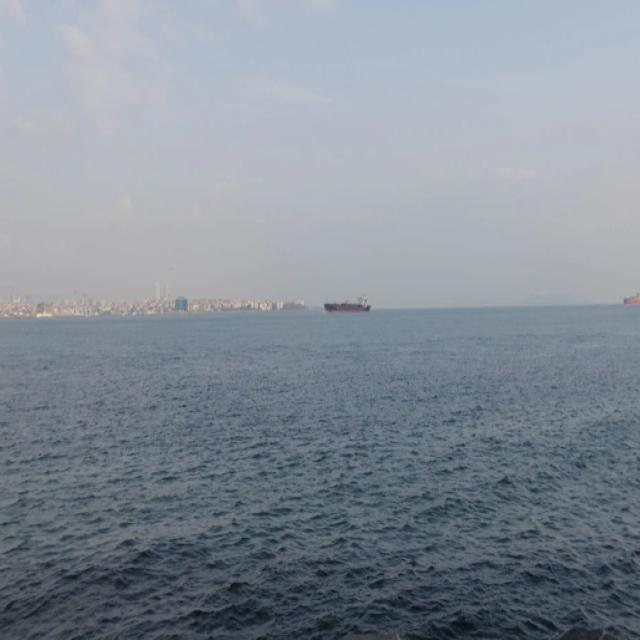cargoship: (323, 290, 372, 312), (623, 289, 640, 305)
